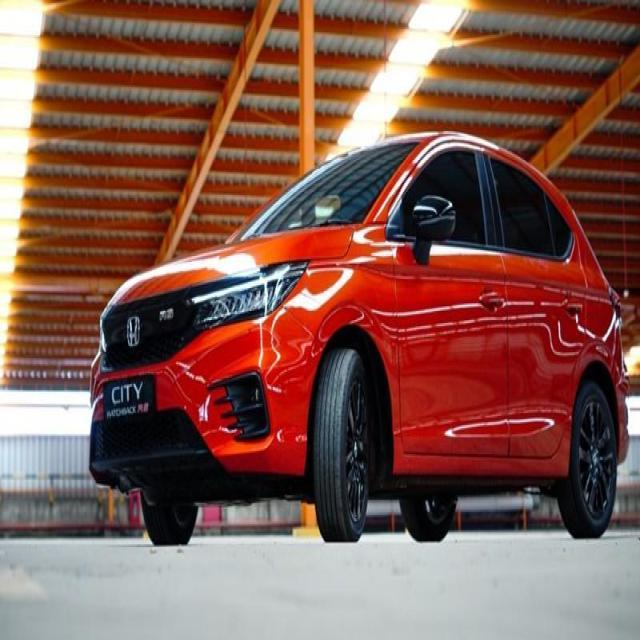Hatchback: (90, 133, 628, 544)
